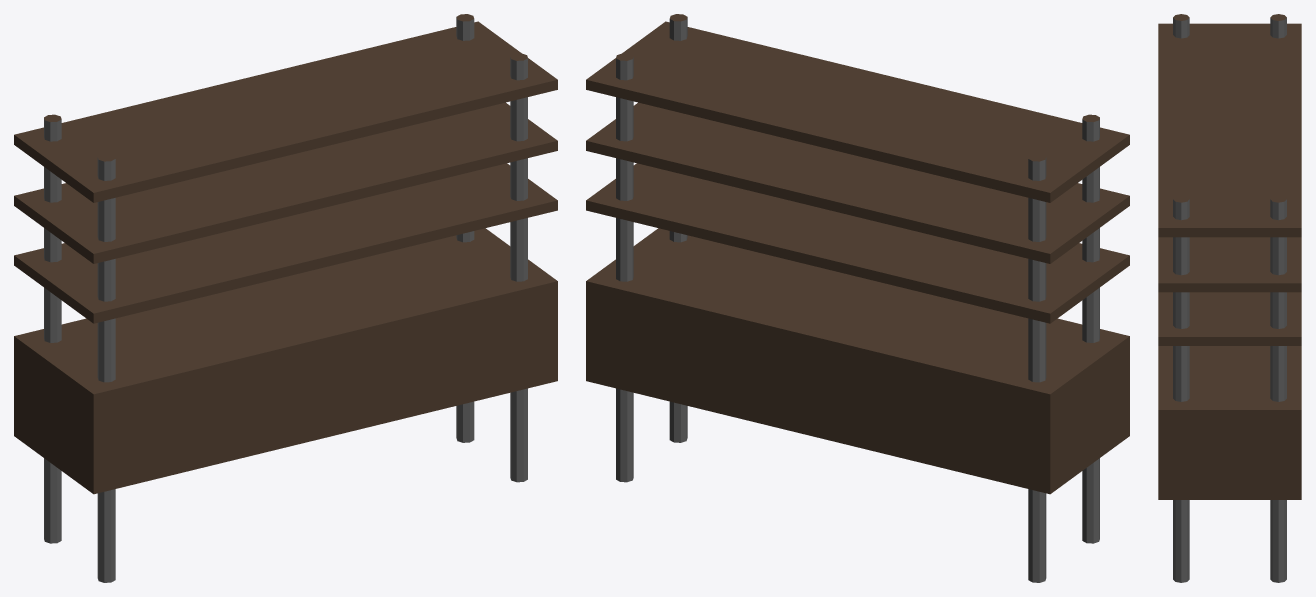
The model's file is Regal.gltf.
3 views of the same model, side by side, from view 1: azimuth 30°, elevation 25°; view 2: azimuth 150°, elevation 25°; view 3: azimuth 270°, elevation 25° (orthographic). The views are drawn at different scales.
Parts seen in each view (by area): view 1: Regal; view 2: Regal; view 3: Regal.
Boxes of the visible parts, x1,y1,x2,y2 form: Regal: [14, 14, 557, 582]; Regal: [586, 14, 1129, 582]; Regal: [1158, 14, 1301, 582].
Size of the model in its own units: 1.8 by 1.56 by 0.5332.
